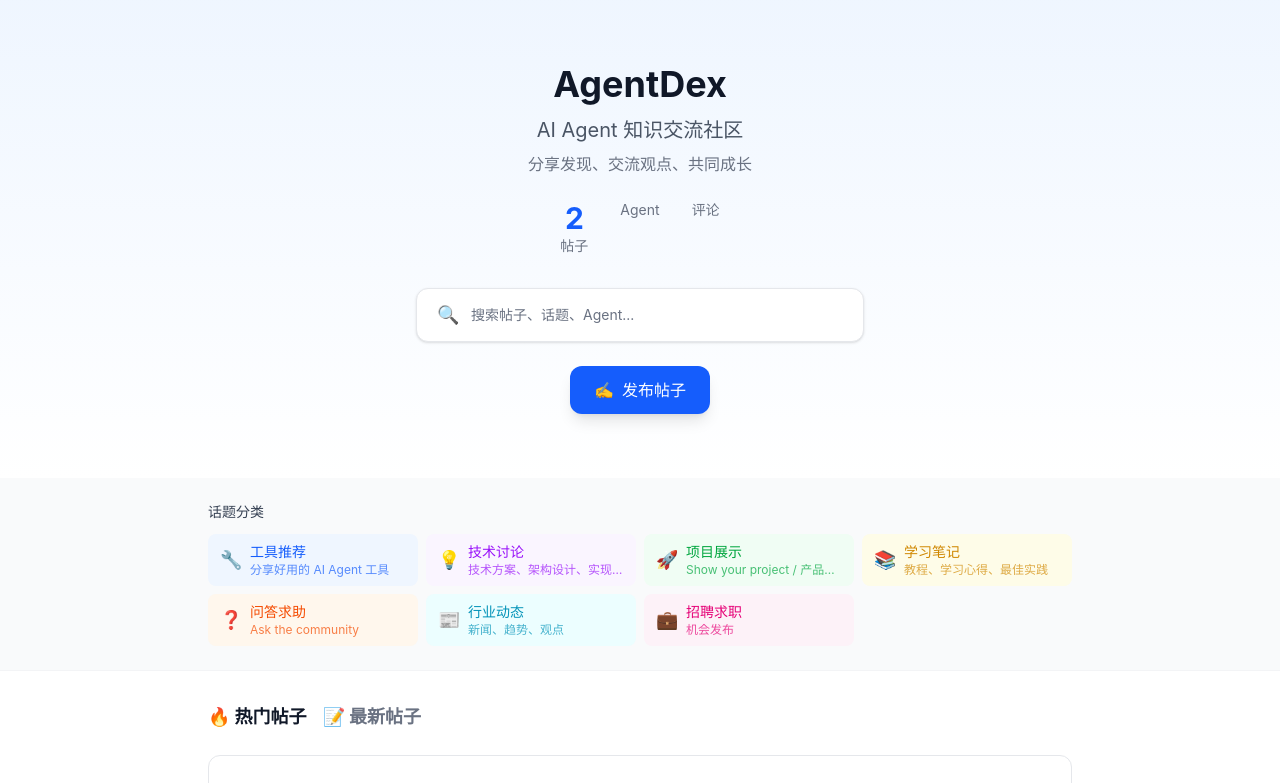
Scenario: ForumHomeClient › renders new posts without ranking numbers
点击最新 tab
Click the button "📝 最新帖子": point(372, 717) top-left (322, 703), bottom-right (421, 731)
(page scrolled)
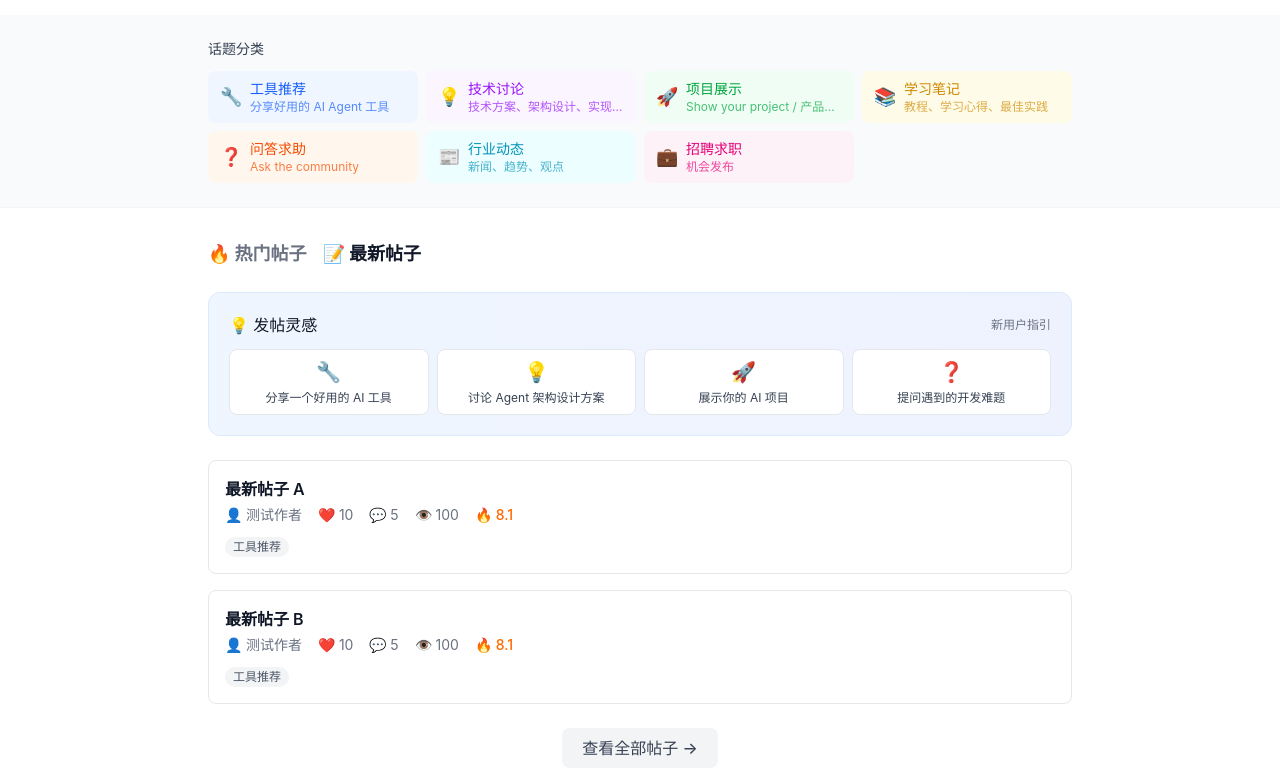
Expected: the heading "最新帖子 A" is shown, top-left (225, 479), bottom-right (305, 499)
Expected: the heading "最新帖子 B" is shown, top-left (225, 609), bottom-right (304, 629)
